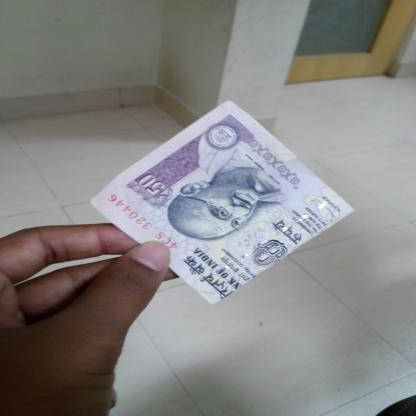Old50Front: (90, 100, 355, 305)
